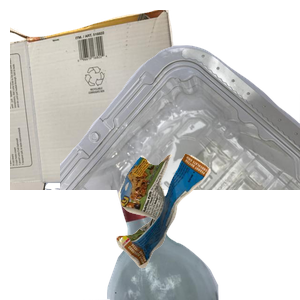cardboard: (10, 10, 191, 190)
glass: (83, 120, 294, 300)
plastic: (60, 43, 300, 223)
trash: (114, 151, 300, 300)
